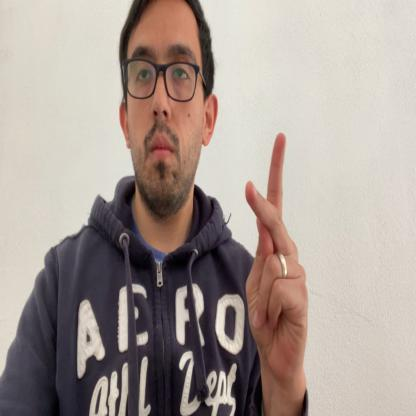P: (244, 131, 309, 389)
